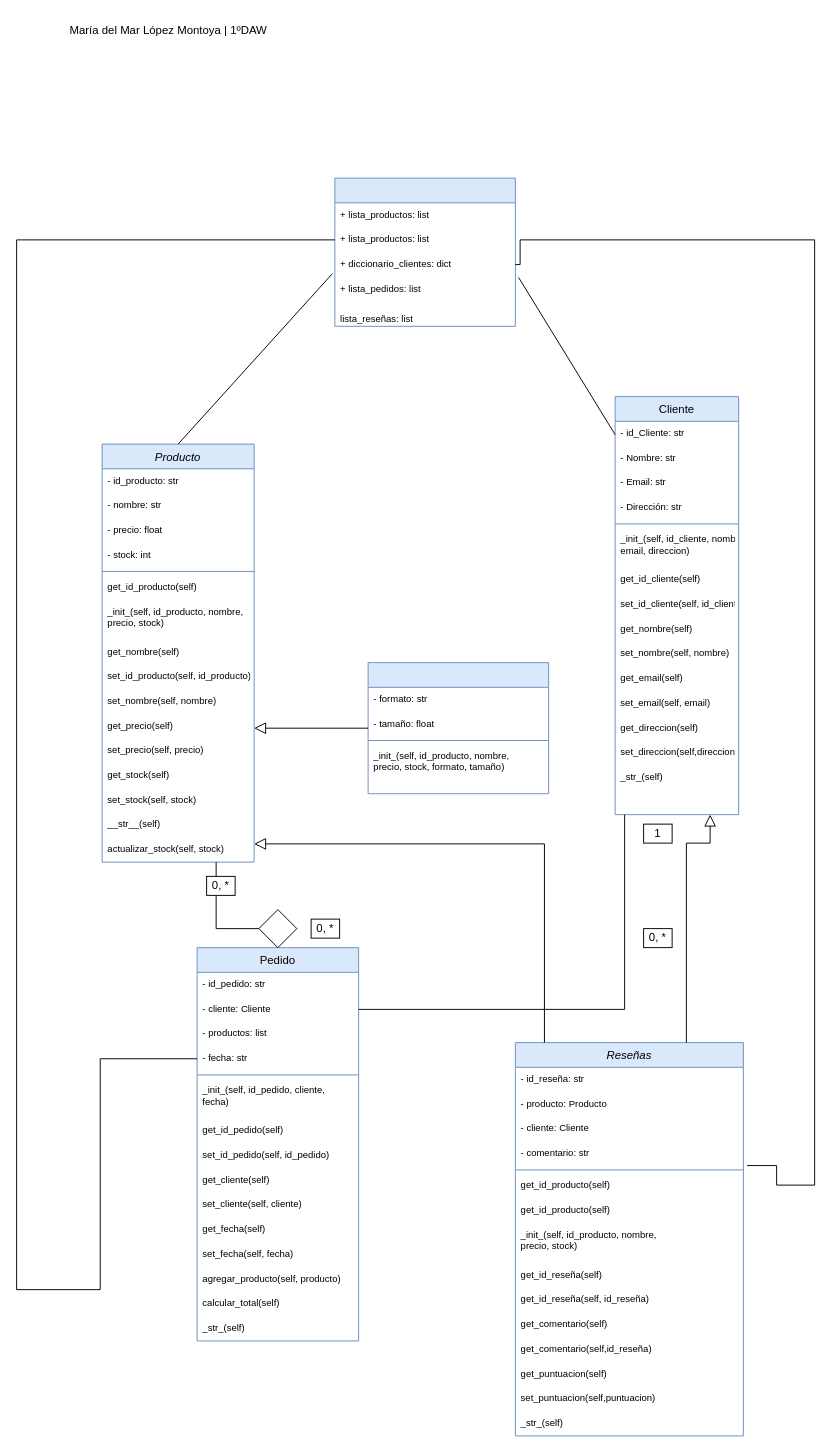
The diagram is 832 pixels wide and 1454 high, and some of its shapes have lost their labels. The shapes that lost their labels are listed below. From the top down, each one's box as (x1, y1, x2, y2) in pixels, then its label:
(334, 177, 515, 326): Main
(367, 662, 549, 794): ProductoDIgital
